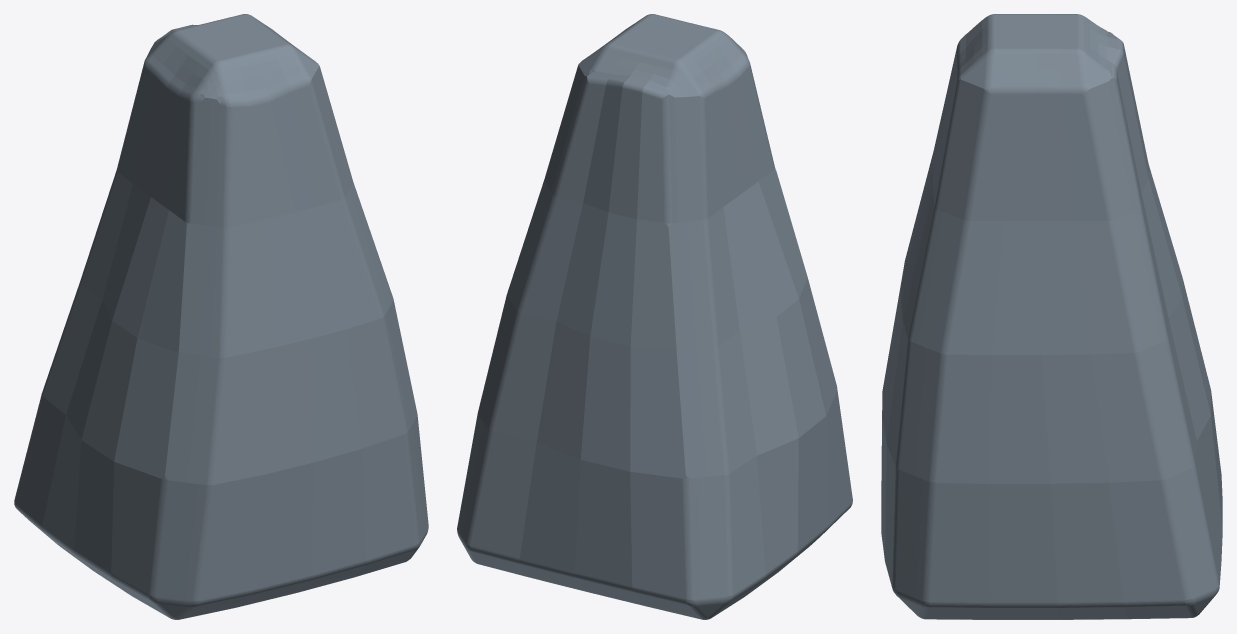
The model's file is Stonetall.obj.
3 renders of one model, left to right at view 1: azimuth 30°, elevation 25°; view 2: azimuth 150°, elevation 25°; view 3: azimuth 270°, elevation 25°, orthographic. The views are drawn at different scales.
Parts seen in each view (by area): view 1: Куб.017; view 2: Куб.017; view 3: Куб.017.
Part boxes in pixels (x1=…): Куб.017: x1=14, y1=14, x2=428, y2=619; Куб.017: x1=457, y1=14, x2=852, y2=619; Куб.017: x1=881, y1=14, x2=1222, y2=619.
Bounding box in the file's own units: 1.19 × 2 × 1.17.
